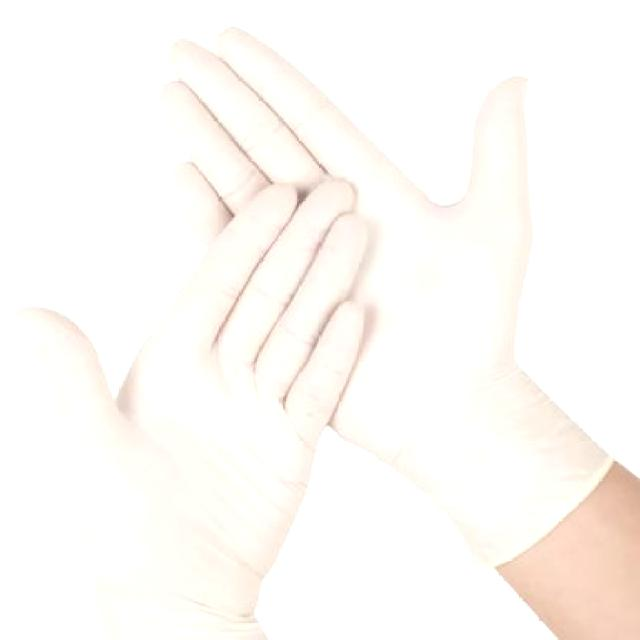glove: (13, 22, 587, 640)
